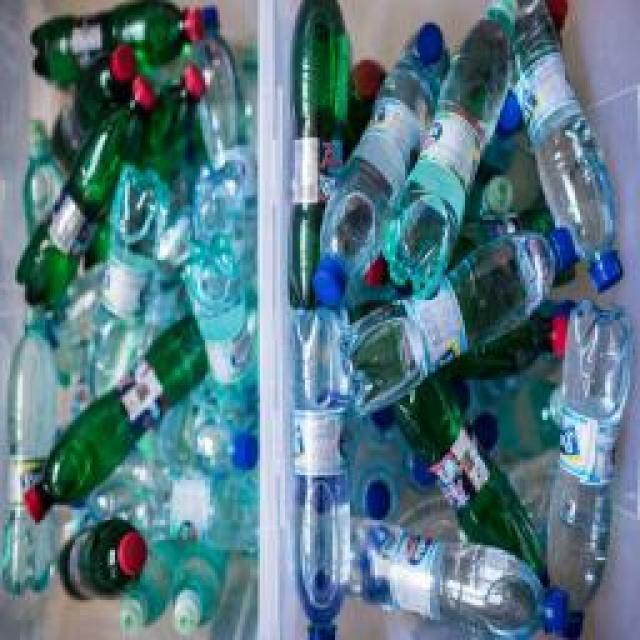bottle: (17, 318, 215, 525), (516, 0, 626, 293), (547, 297, 630, 640), (290, 310, 360, 640)
